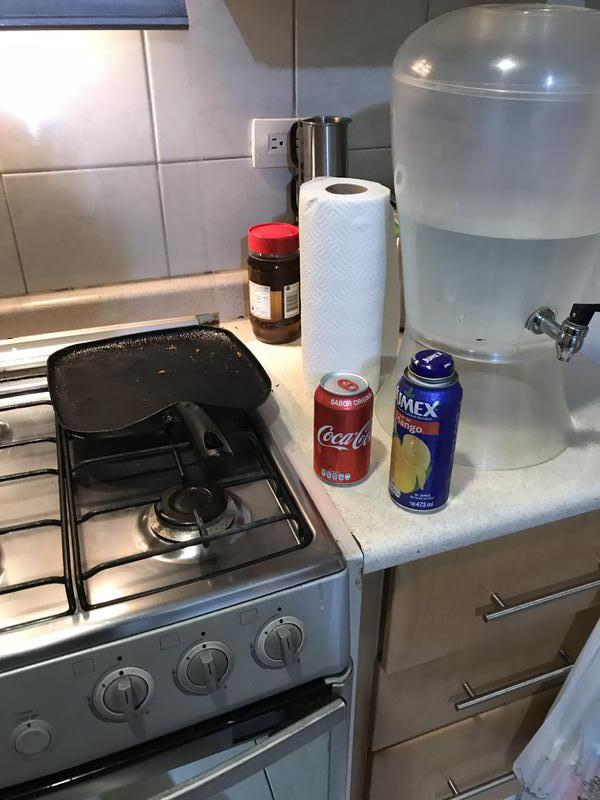coca_cola: (312, 372, 376, 485)
jugo_jumex: (390, 350, 462, 515)
